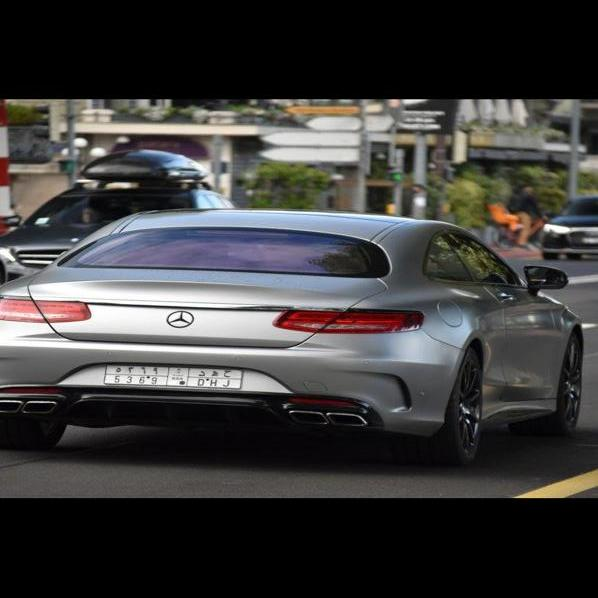numberplate: (105, 362, 246, 391)
